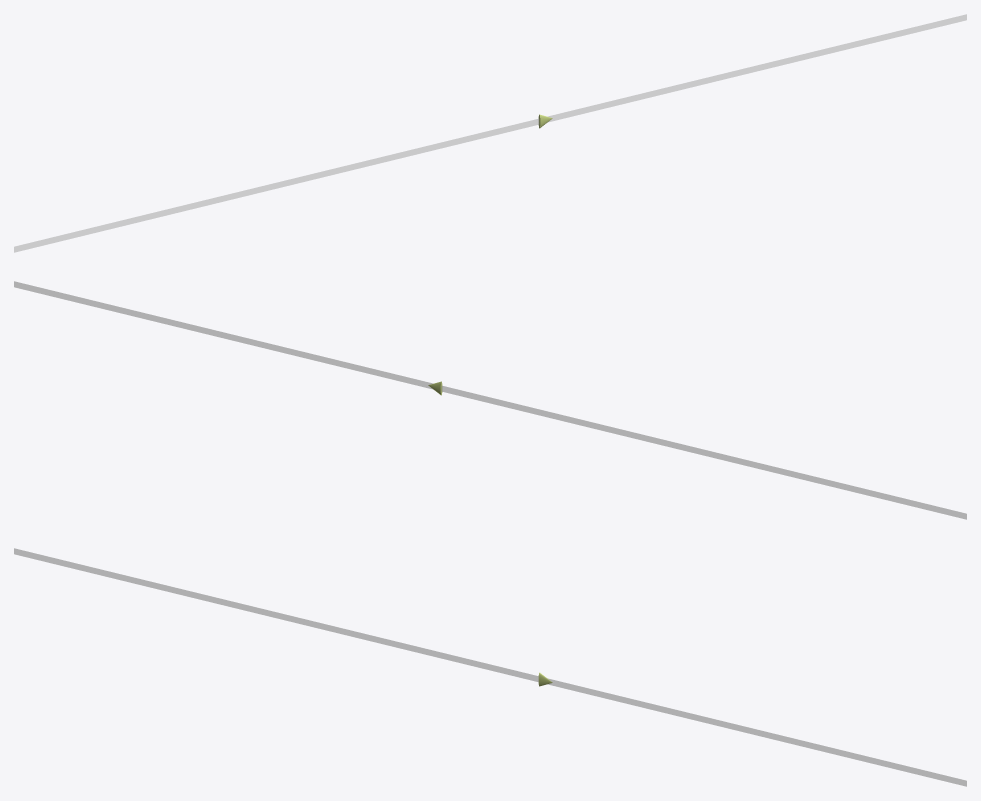
File: LightRay01.fbx
3 views of the same model, one above another, from view 1: azimuth 30°, elevation 25°; view 2: azimuth 150°, elevation 25°; view 3: azimuth 330°, elevation 25° (orthographic).
Visible parts, largest first — view 1: 平面; view 2: 平面; view 3: 平面.
Boxes of the visible parts, x1,y1,x2,y2 form: 平面: [14, 14, 966, 252]; 平面: [14, 281, 966, 519]; 平面: [14, 548, 966, 786].
Size of the model in its own units: 13041 by 185 by 40.48.
